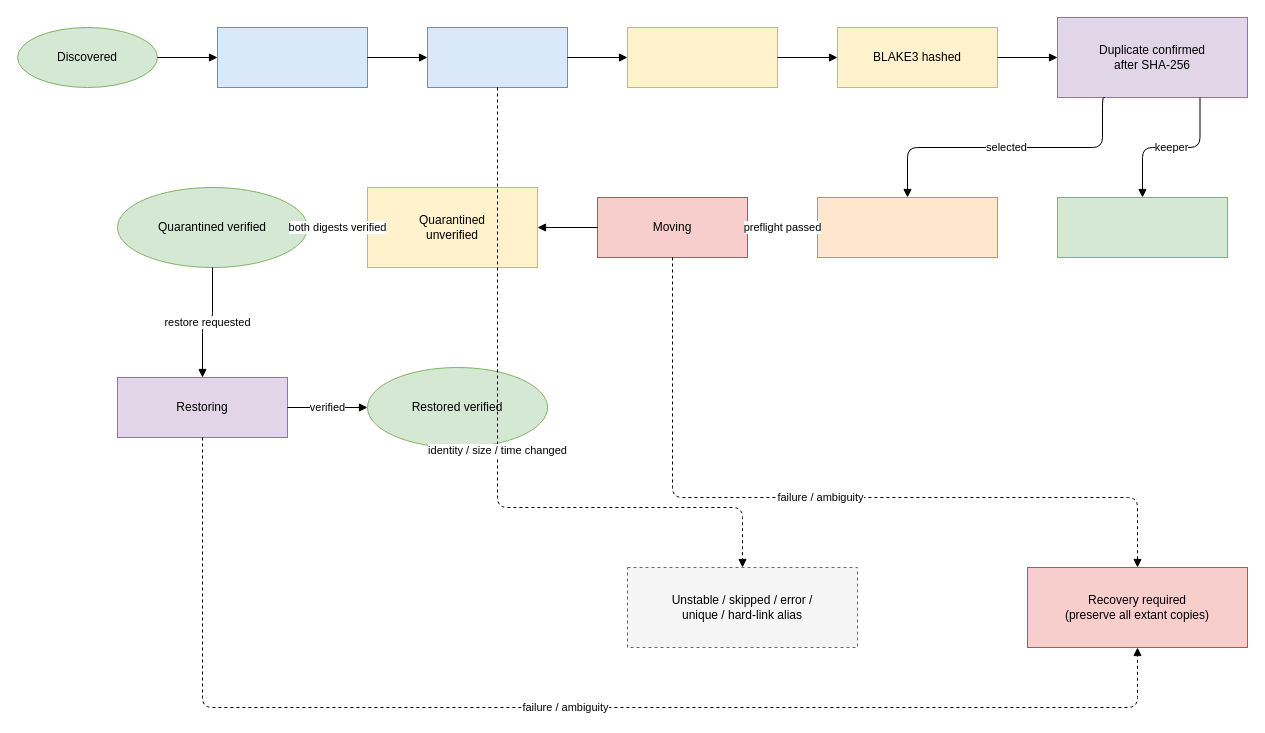
This 1265x733 diagram has some shape labels left out. The centre of each missing label's shape, as x and y in pixels:
"Candidate" belongs at point (497, 57).
"Metadata ready" belongs at point (292, 57).
"Planned keep" belongs at point (1142, 227).
"Planned quarantine" belongs at point (907, 227).
"Quick hashed" belongs at point (702, 57).
